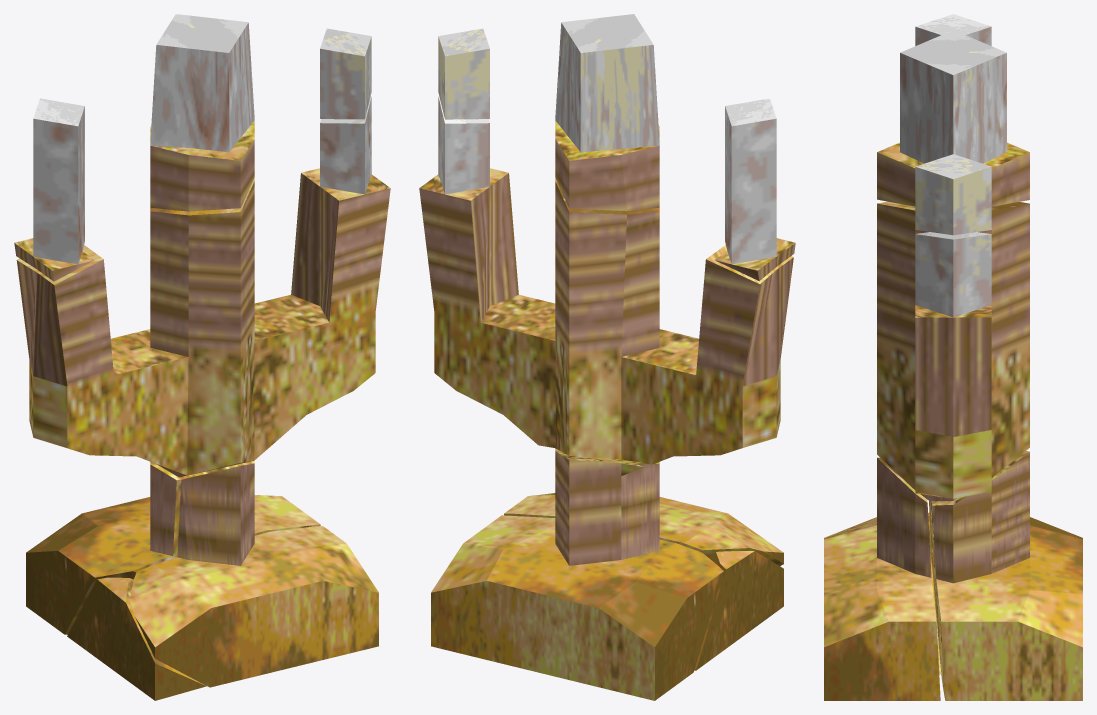
The model's file is candle_des.fbx.
The picture shows the model from 3 angles, left to right: view 1: azimuth 30°, elevation 25°; view 2: azimuth 150°, elevation 25°; view 3: azimuth 270°, elevation 25°; orthographic projection.
Parts seen in each view (by area): view 1: candle_cell.003, candle_cell.004, candle_cell.002, candle_cell, candle_cell.006, candle_cell.001, candle_cell.005; view 2: candle_cell.003, candle_cell, candle_cell.002, candle_cell.006, candle_cell.001, candle_cell.004, candle_cell.005; view 3: candle_cell.003, candle_cell, candle_cell.004, candle_cell.002, candle_cell.005, candle_cell.006.
Part boxes in pixels (x1,y1,x2,y2): candle_cell.003: [16, 96, 390, 477]; candle_cell.004: [129, 463, 378, 687]; candle_cell.002: [150, 14, 254, 211]; candle_cell: [26, 460, 320, 634]; candle_cell.006: [14, 98, 94, 281]; candle_cell.001: [67, 577, 206, 700]; candle_cell.005: [320, 28, 371, 119]; candle_cell.003: [419, 96, 793, 464]; candle_cell: [431, 448, 723, 700]; candle_cell.002: [555, 14, 659, 211]; candle_cell.006: [714, 98, 795, 281]; candle_cell.001: [694, 551, 783, 670]; candle_cell.004: [504, 493, 783, 565]; candle_cell.005: [438, 28, 489, 119]; candle_cell.003: [877, 201, 1029, 501]; candle_cell: [928, 451, 1082, 700]; candle_cell.004: [824, 457, 940, 700]; candle_cell.002: [877, 30, 1029, 206]; candle_cell.005: [915, 154, 991, 235]; candle_cell.006: [915, 14, 991, 45].
Size of the model in its own units: 18.4 by 31.22 by 12.18.
